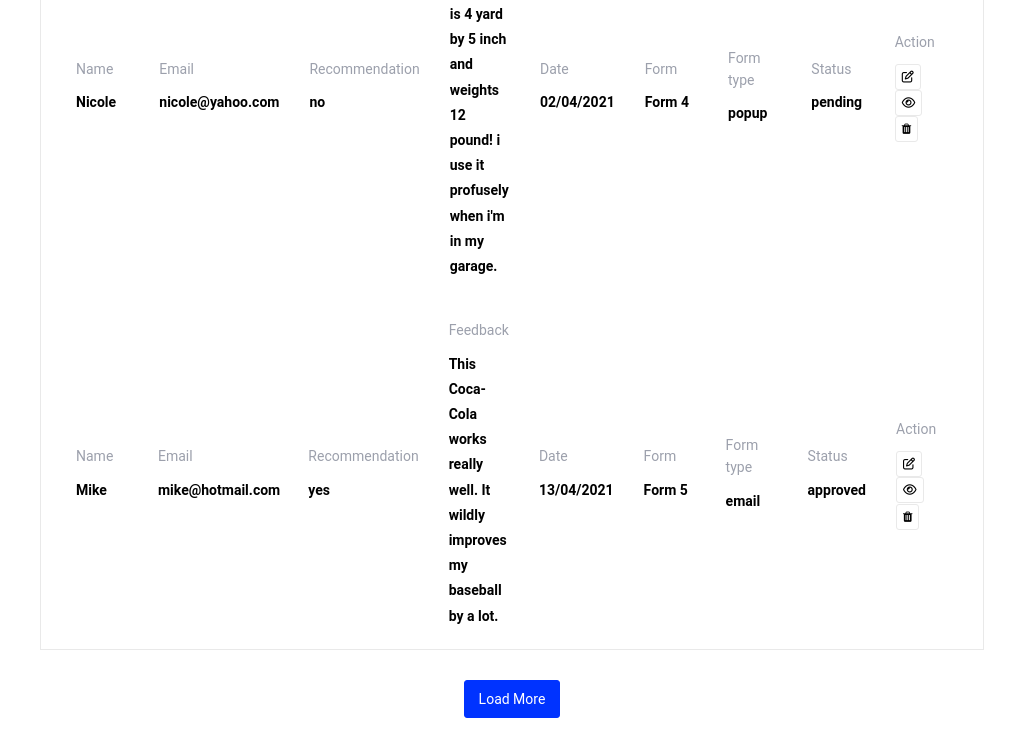
Test: DataTable › Loads 5 more rows when the Load More button is clicked
This screenshot has width=1024, height=756.
(page scrolled)
Click the button with test id "load-more-test". click: (512, 699)
box: [464,680,560,718]
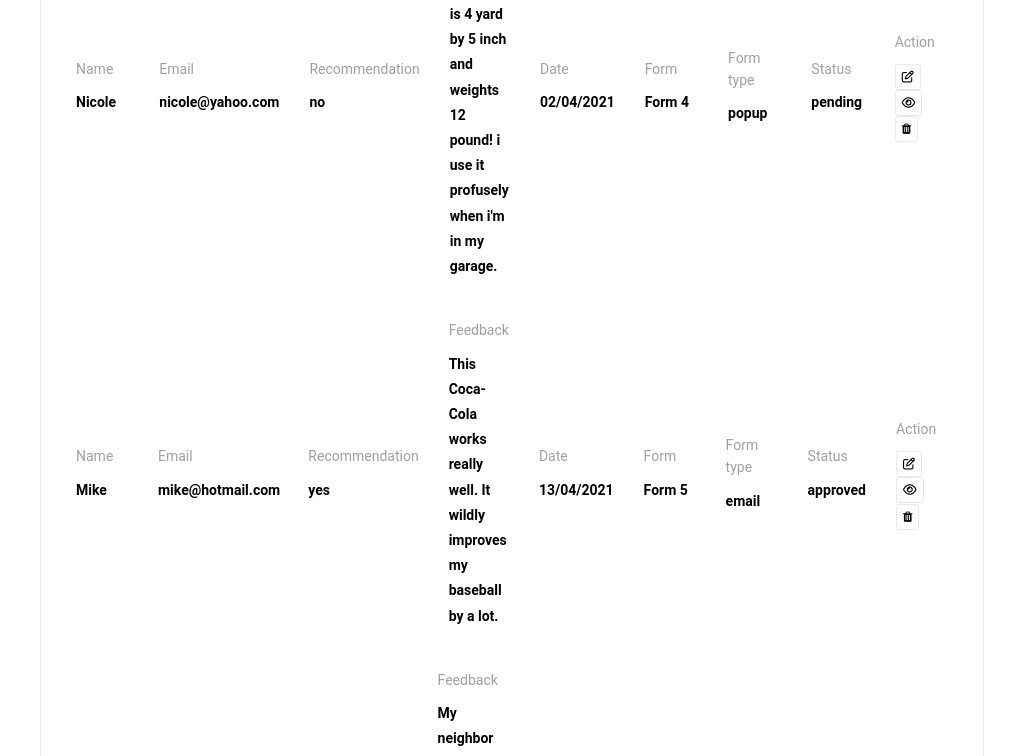
Now the number of "DataTableRow" components is 10
